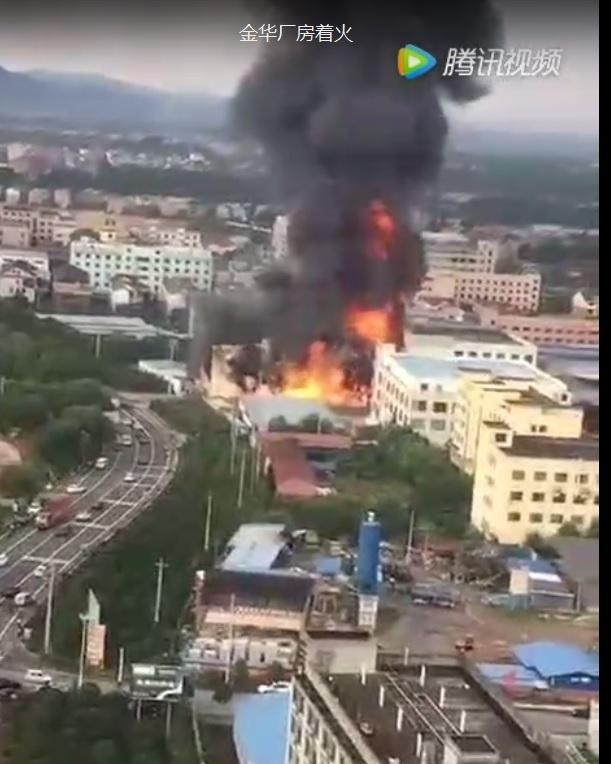fire: (272, 339, 369, 401), (349, 302, 397, 341)
